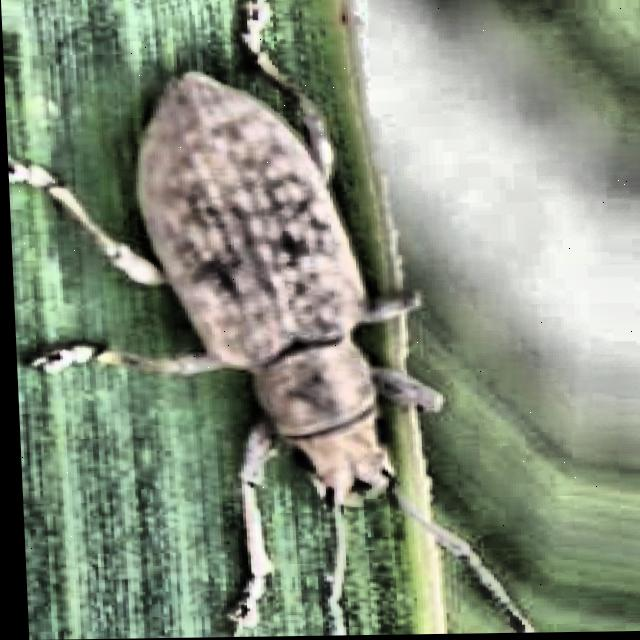Stink bug: (49, 69, 579, 557)
